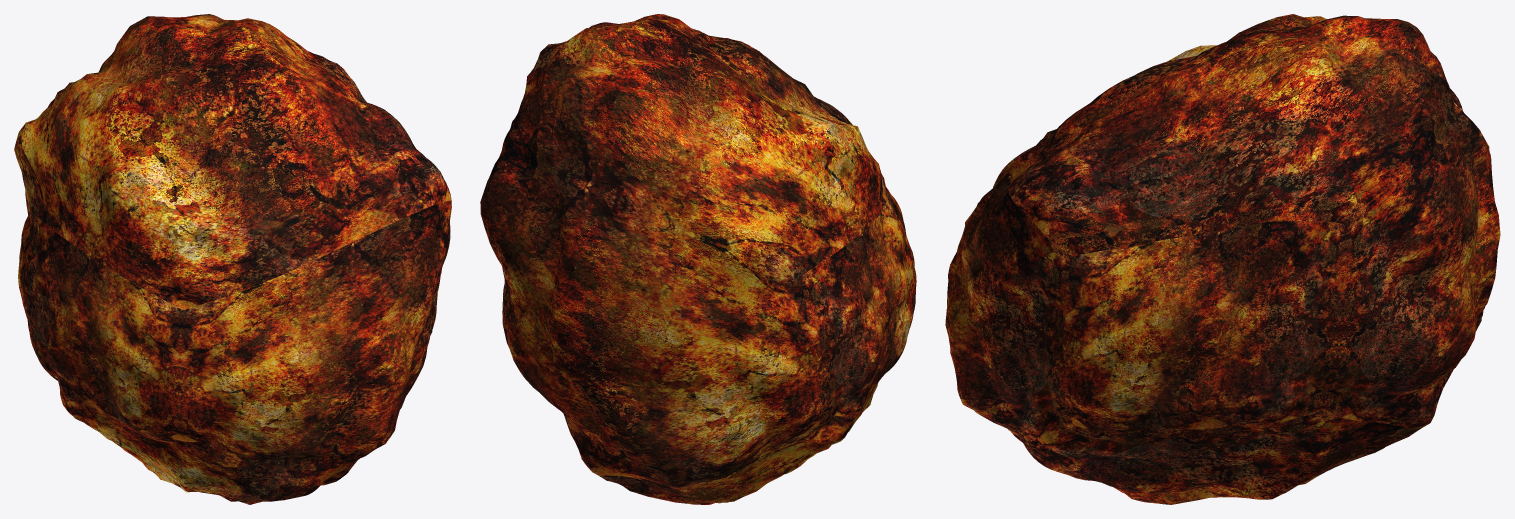
File: Meteor.fbx
3 views of the same model, side by side, from view 1: azimuth 30°, elevation 25°; view 2: azimuth 150°, elevation 25°; view 3: azimuth 270°, elevation 25° (orthographic). The views are drawn at different scales.
Visible parts, largest first — view 1: Meteor; view 2: Meteor; view 3: Meteor.
Part boxes in pixels (box(x1,y1,x2,y2)): Meteor: box(14, 14, 451, 504); Meteor: box(480, 14, 916, 504); Meteor: box(945, 14, 1500, 504).
Bounding box in the file's own units: 2.68 × 3.32 × 3.37.
